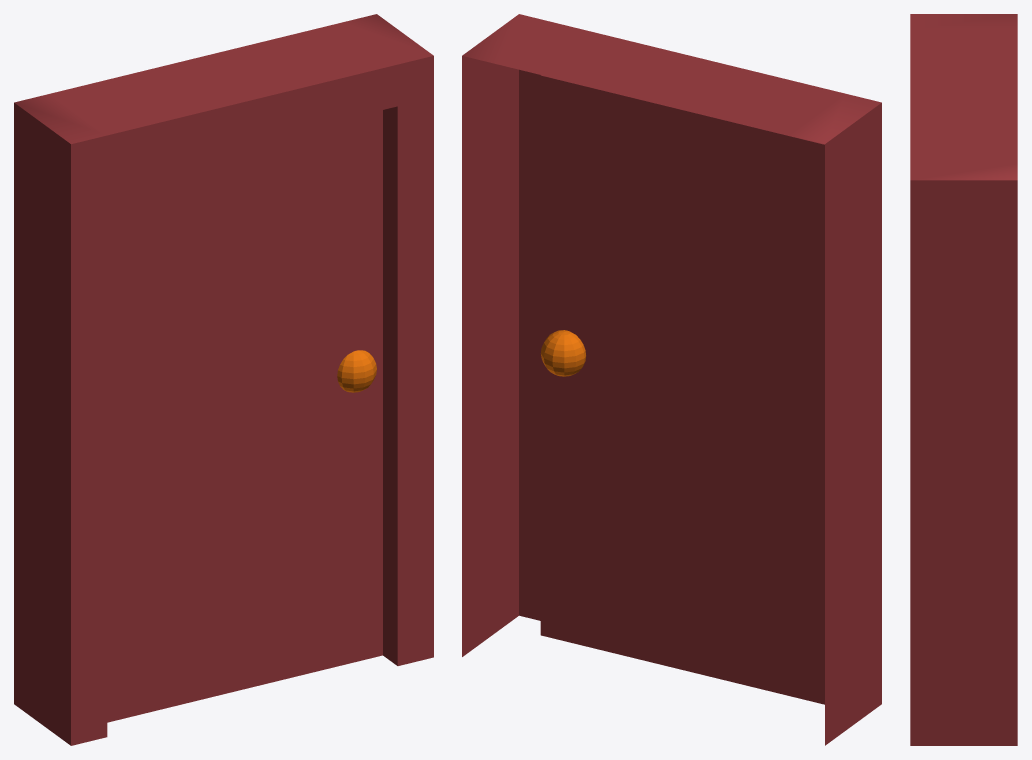
The model's file is ExitDoor.fbx.
3 views of the same model, side by side, from view 1: azimuth 30°, elevation 25°; view 2: azimuth 150°, elevation 25°; view 3: azimuth 270°, elevation 25° (orthographic). The views are drawn at different scales.
Parts seen in each view (by area): view 1: ExitDoor; view 2: ExitDoor; view 3: ExitDoor.
Part boxes in pixels (x1=…): ExitDoor: x1=14, y1=14, x2=433, y2=745; ExitDoor: x1=462, y1=14, x2=881, y2=745; ExitDoor: x1=910, y1=14, x2=1017, y2=745.
Size of the model in its own units: 2.94 by 0.8014 by 4.66.
